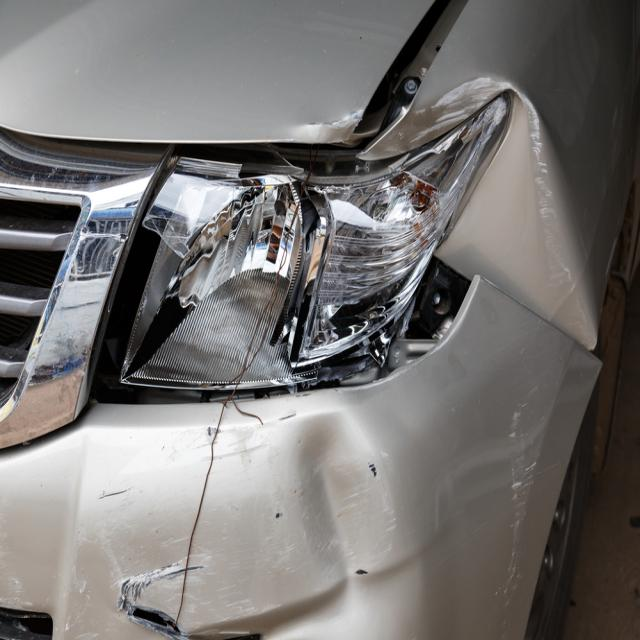crack: (129, 608, 190, 640)
dent: (442, 94, 592, 349), (297, 412, 387, 577)
lamp broken: (115, 89, 516, 399)
scratch: (0, 421, 293, 640), (499, 379, 545, 603), (413, 78, 511, 145)
